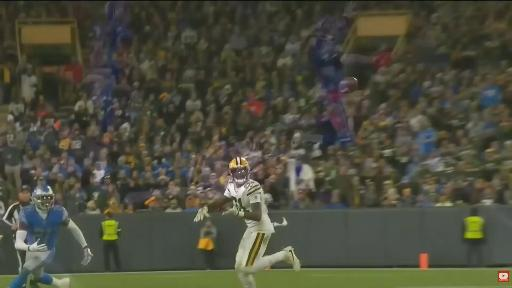Helmet: (229, 157, 250, 186), (32, 186, 54, 209)
Jersey: (225, 180, 274, 233), (19, 205, 68, 250)
Player: (195, 157, 300, 287), (9, 186, 92, 287)
